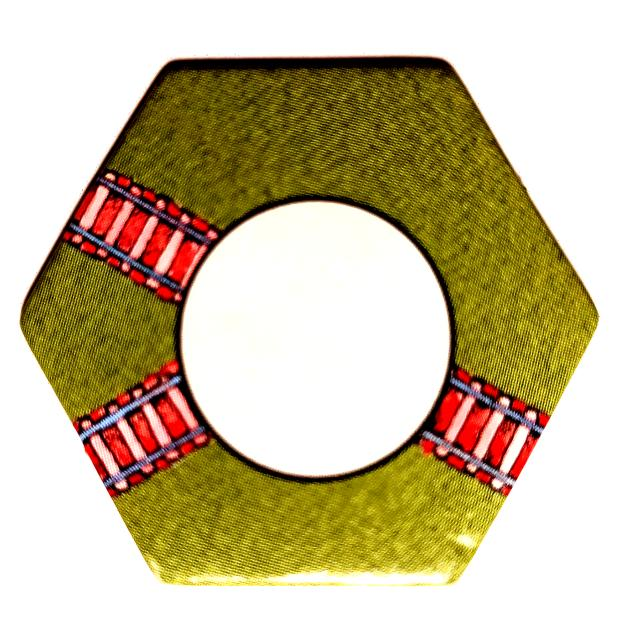14_3: (19, 59, 598, 582)
